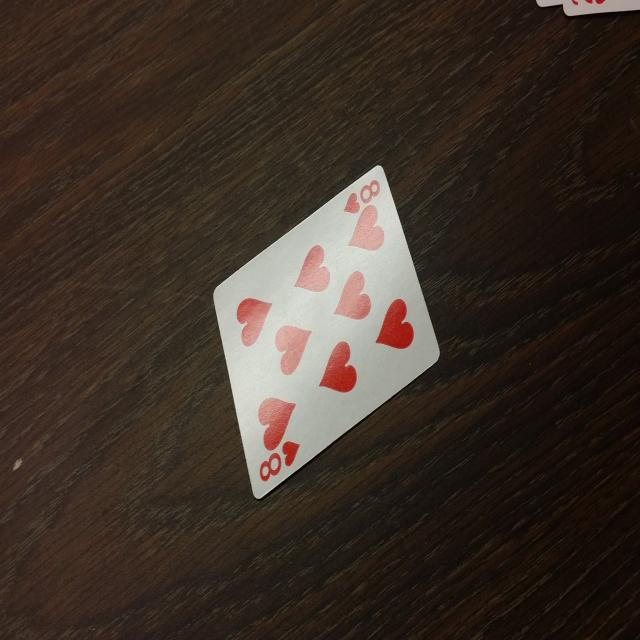8h: (250, 435, 304, 498), (333, 176, 388, 216)
